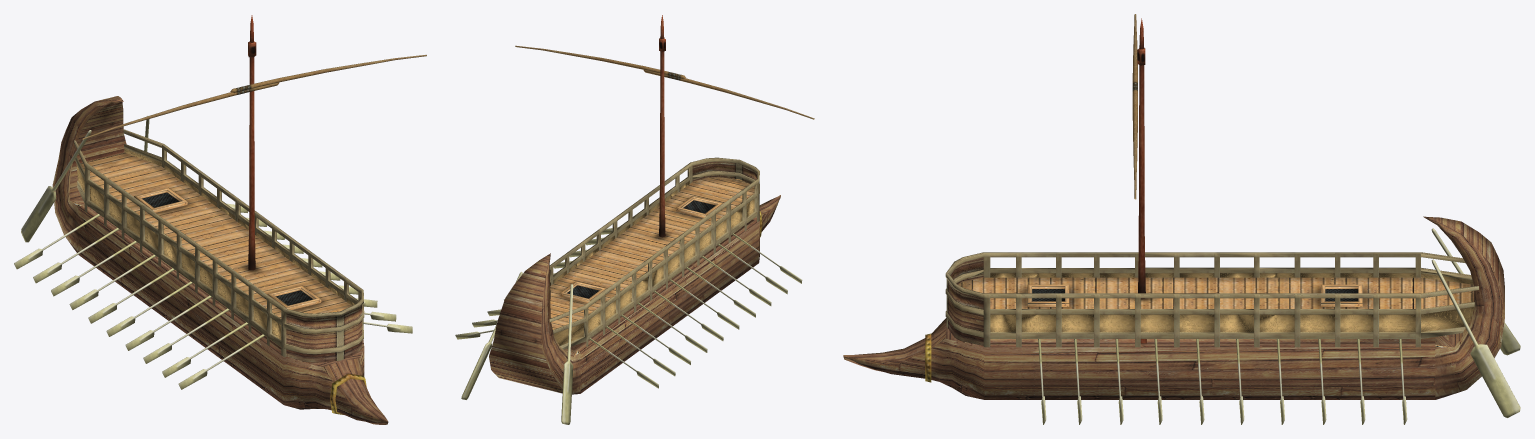
The model's file is kart_merchant_ship.dae.
The picture shows the model from 3 angles, left to right: view 1: azimuth 30°, elevation 25°; view 2: azimuth 150°, elevation 25°; view 3: azimuth 270°, elevation 25°; orthographic projection. The views are drawn at different scales.
Parts seen in each view (by area): view 1: Plane_001; view 2: Plane_001; view 3: Plane_001.
Boxes of the visible parts, x1,y1,x2,y2 form: Plane_001: [14, 15, 426, 424]; Plane_001: [455, 15, 814, 424]; Plane_001: [843, 14, 1520, 424].
Size of the model in its own units: 21.07 by 19.7 by 32.79.
